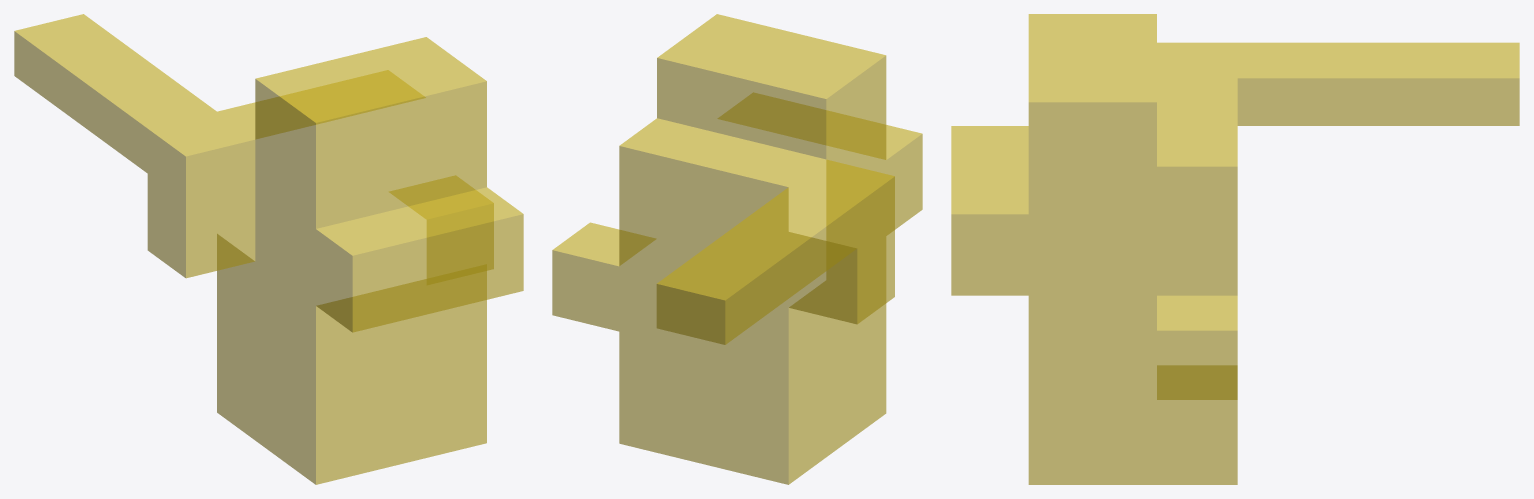
File: glif01.glb
3 renders of one model, left to right at view 1: azimuth 30°, elevation 25°; view 2: azimuth 150°, elevation 25°; view 3: azimuth 270°, elevation 25°, orthographic. The views are drawn at different scales.
Visible parts, largest first — view 1: Cube; view 2: Cube; view 3: Cube.
Boxes of the visible parts, x1,y1,x2,y2 form: Cube: (14, 14, 523, 484); Cube: (552, 14, 922, 484); Cube: (951, 14, 1519, 484).
Size of the model in its own units: 1.8 by 2.02 by 2.72.
